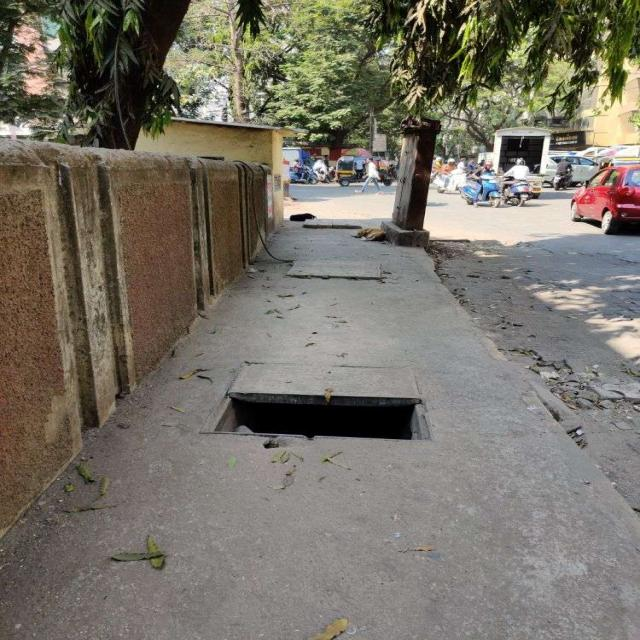Car: (572, 165, 640, 233)
